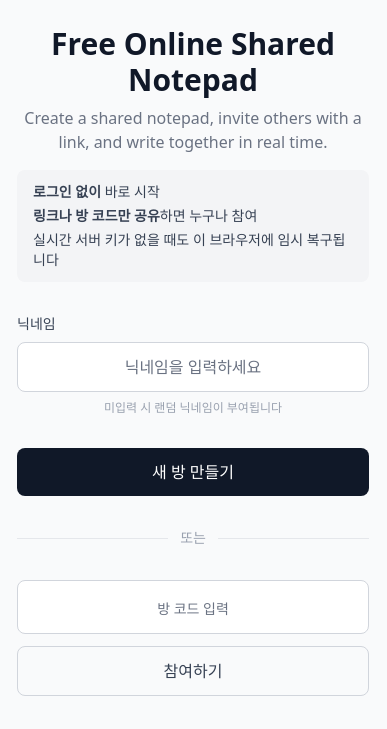
Scenario: /+page.svelte › should show error for invalid room code
The width and height of the screenshot is (387, 729).
Type "a" into the field with placeholder "방 코드 입력".
click(193, 607); type("a")  # box [17,580,369,634]
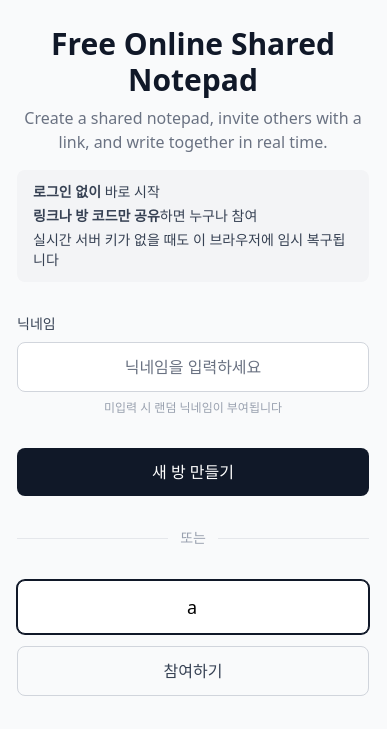
Click the button "참여하기".
click(193, 671)  # box [17,646,369,696]
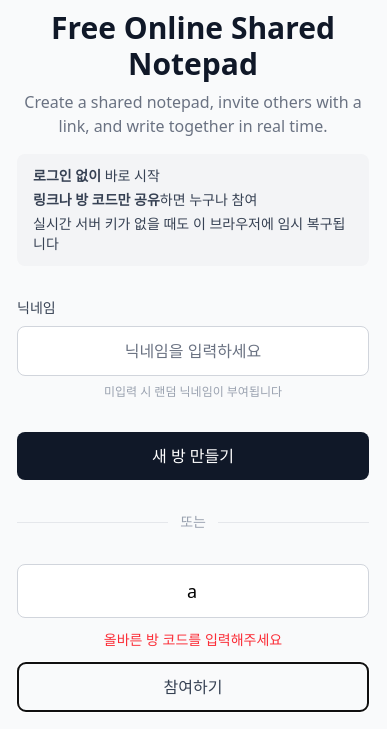
Now the text "올바른 방 코드를 입력해주세요" is shown, box [104,630,282,649]
